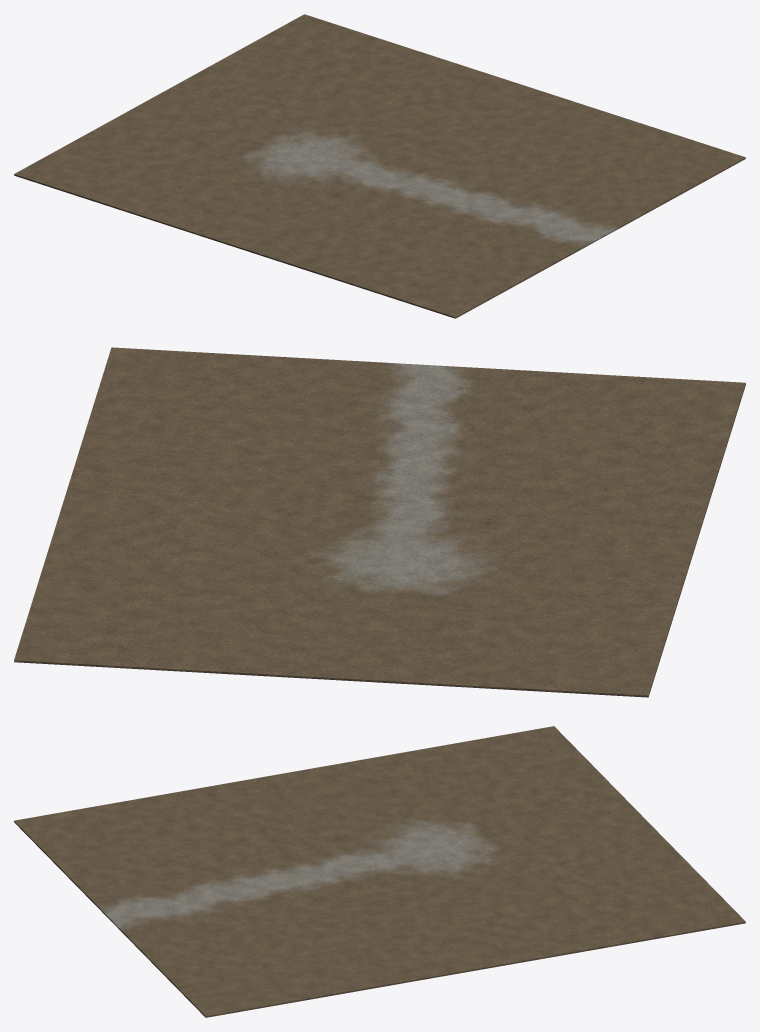
3 renders of one model, top to bottom at view 1: azimuth 30°, elevation 25°; view 2: azimuth 150°, elevation 25°; view 3: azimuth 270°, elevation 25°, orthographic. The views are drawn at different scales.
Visible parts, largest first — view 1: Ground_-1_-1_0_000, Ground_-1_0_0_000, Ground_-1_-1_0_010, Ground_-1_0_0_010, Ground_0_-1_0_000_100, Ground_-1_-1_0_100_000, Ground_0_-1_0_100, Ground_0_0_0_100, Ground_0_0_0_110, Ground_0_-1_0_110, Ground_-1_0_0_100_000, Ground_-1_0_0_110_000 (+28 smaller); view 2: Ground_-1_0_0_110_010, Ground_0_0_0_010_110, Ground_-1_0_0_010, Ground_0_0_0_110, Ground_-1_0_0_000, Ground_-1_-1_0_000, Ground_-1_-1_0_010, Ground_-1_0_0_100_010, Ground_0_-1_0_000_110, Ground_0_-1_0_010_100, Ground_-1_0_0_110_000, Ground_0_-1_0_000_100 (+28 smaller); view 3: Ground_0_-1_0_100, Ground_0_0_0_100, Ground_0_-1_0_110, Ground_0_0_0_110, Ground_0_-1_0_000_100, Ground_-1_-1_0_100_000, Ground_-1_-1_0_000, Ground_-1_0_0_010, Ground_-1_0_0_000, Ground_-1_-1_0_010, Ground_-1_0_0_100_010, Ground_0_0_0_000_110 (+28 smaller).
Boxes of the visible parts, box(x1,y1,x2,y2) form: Ground_-1_-1_0_000: box(345, 261, 491, 318); Ground_-1_0_0_000: box(124, 190, 270, 246); Ground_-1_-1_0_010: box(234, 226, 380, 282); Ground_-1_0_0_010: box(14, 154, 159, 210); Ground_0_-1_0_000_100: box(582, 159, 709, 218); Ground_-1_-1_0_100_000: box(437, 239, 564, 298); Ground_0_-1_0_100: box(599, 121, 745, 178); Ground_0_0_0_100: box(379, 50, 524, 105); Ground_0_0_0_110: box(268, 14, 413, 69); Ground_0_-1_0_110: box(489, 86, 634, 141); Ground_-1_0_0_100_000: box(216, 168, 343, 225); Ground_-1_0_0_110_000: box(106, 132, 232, 189); Ground_-1_0_0_110_010: box(410, 643, 581, 692); Ground_0_0_0_010_110: box(93, 625, 263, 675); Ground_-1_0_0_010: box(569, 613, 672, 697); Ground_0_0_0_110: box(14, 582, 117, 666); Ground_-1_0_0_000: box(593, 534, 697, 618); Ground_-1_-1_0_000: box(642, 378, 745, 461); Ground_-1_-1_0_010: box(618, 456, 721, 539); Ground_-1_0_0_100_010: box(435, 565, 605, 612); Ground_0_-1_0_000_110: box(166, 391, 336, 438); Ground_0_-1_0_010_100: box(154, 430, 324, 477); Ground_-1_0_0_110_000: box(423, 604, 593, 651); Ground_0_-1_0_000_100: box(178, 352, 348, 399); Ground_0_-1_0_100: box(181, 968, 340, 1017); Ground_0_0_0_100: box(452, 921, 610, 970); Ground_0_-1_0_110: box(317, 944, 475, 993); Ground_0_0_0_110: box(587, 897, 745, 946); Ground_0_-1_0_000_100: box(134, 931, 248, 992); Ground_-1_-1_0_100_000: box(38, 833, 152, 895); Ground_-1_-1_0_000: box(14, 797, 172, 846); Ground_-1_0_0_010: box(419, 726, 577, 773); Ground_-1_0_0_000: box(284, 750, 442, 797); Ground_-1_-1_0_010: box(149, 773, 307, 821); Ground_-1_0_0_100_010: box(376, 774, 490, 834); Ground_0_0_0_000_110: box(472, 872, 586, 932).
Size of the model in its own units: 132 by 0.33 by 140.
40 materials, 40 textured.
